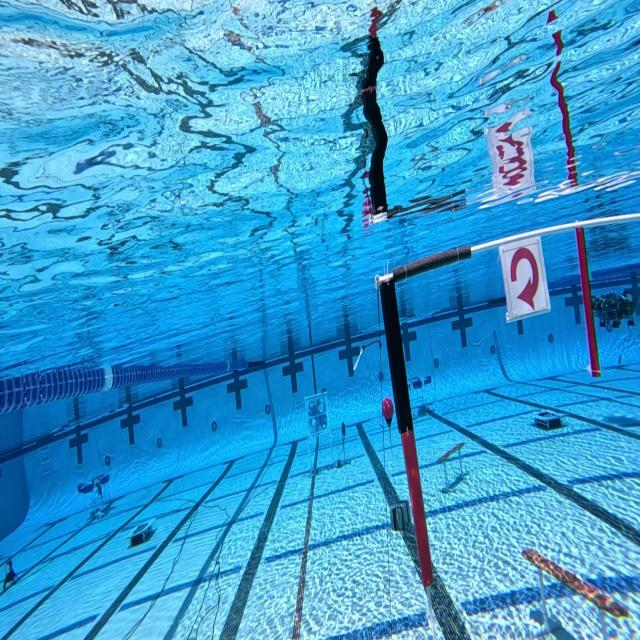red_side: (499, 235, 551, 322)
